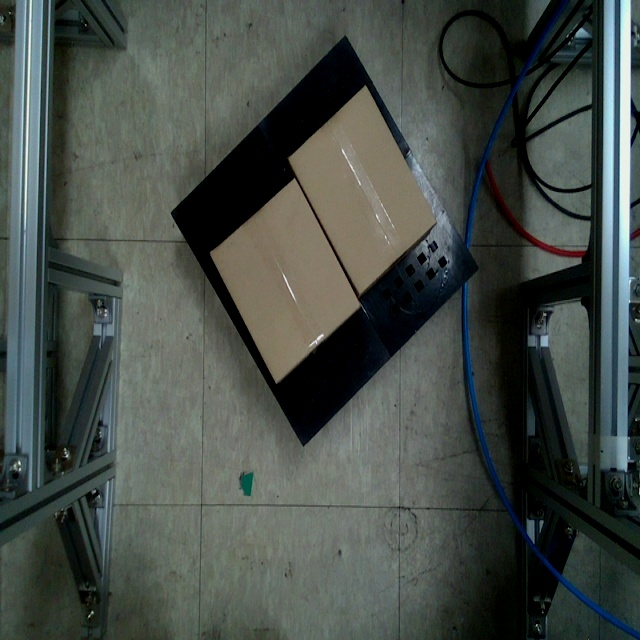box: (208, 176, 362, 385), (288, 86, 438, 297)
pallet: (169, 34, 482, 449)
